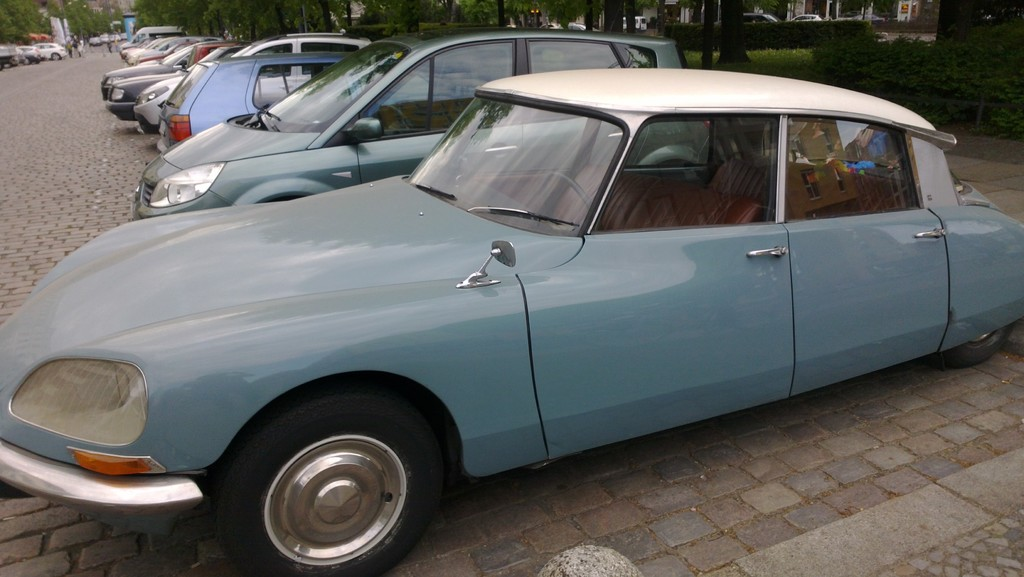Car: (0, 26, 1024, 577)
